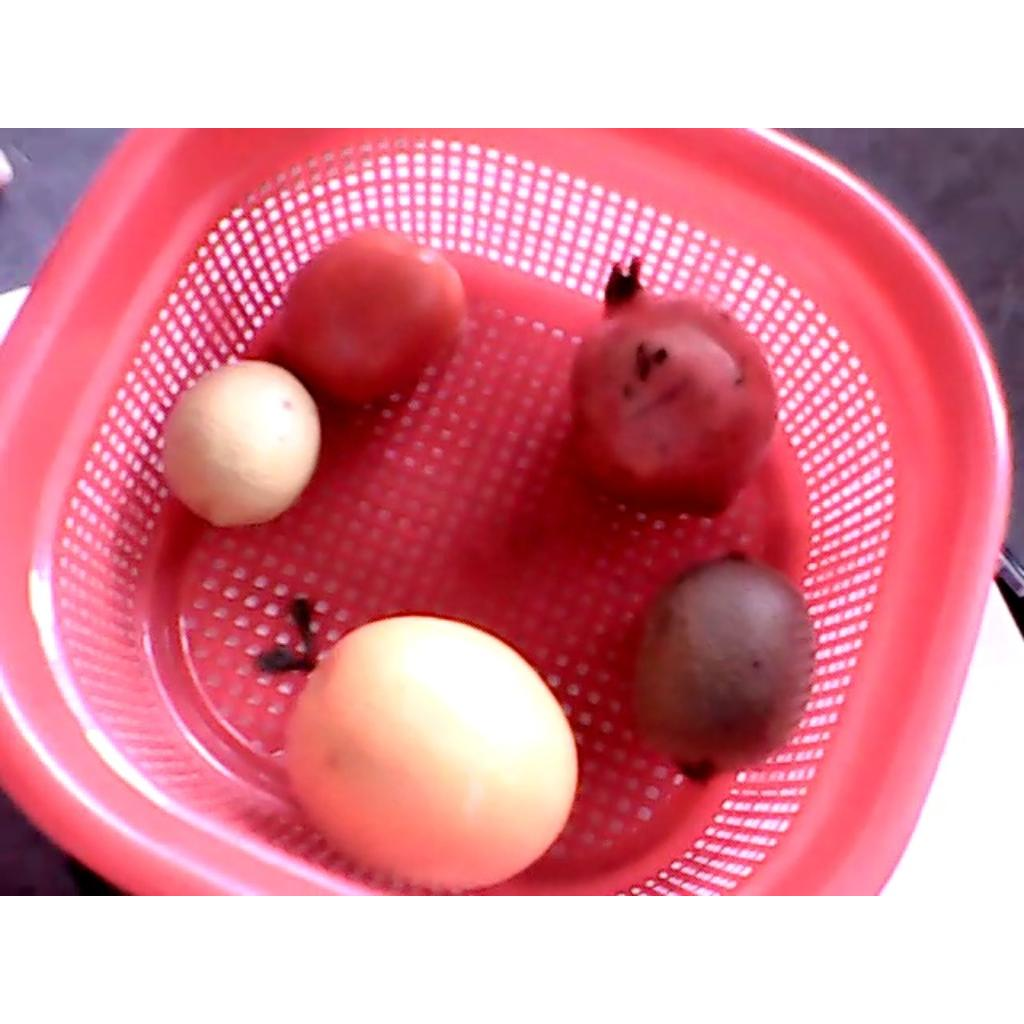kiwi: (642, 550, 812, 779)
lemon: (160, 358, 322, 526)
orange: (289, 614, 579, 891)
pomegranate: (565, 253, 778, 513)
tomato: (280, 226, 467, 406)
